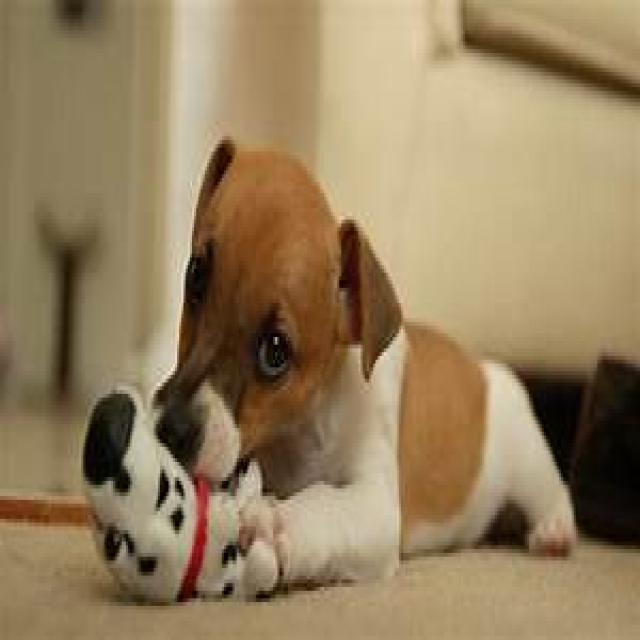dog: (151, 136, 576, 598)
